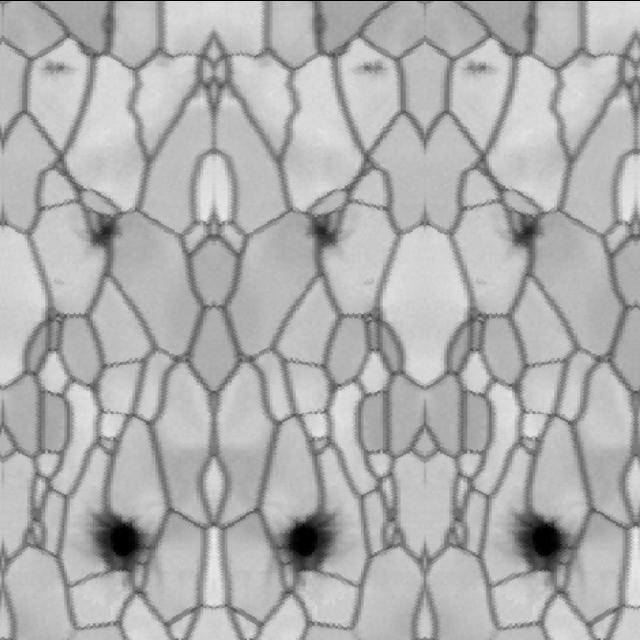good_void: (261, 491, 363, 600), (488, 492, 588, 599), (64, 492, 164, 599), (301, 209, 362, 266), (490, 209, 551, 266), (66, 209, 127, 266), (460, 48, 499, 87), (36, 48, 75, 87), (352, 48, 391, 86), (474, 275, 489, 288), (50, 275, 65, 288), (363, 275, 377, 288)
